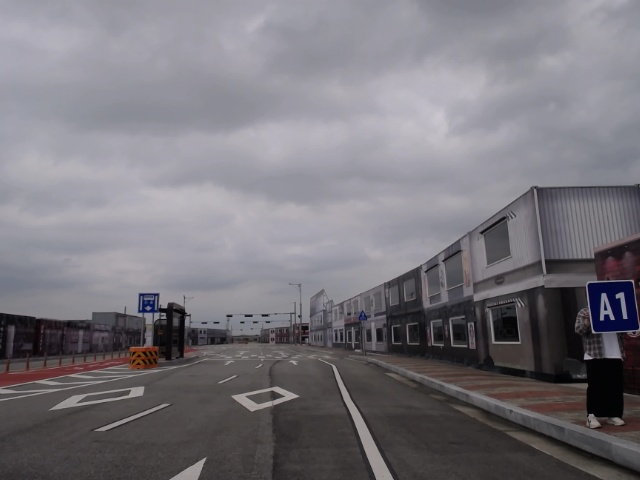delivery_a1: (586, 280, 639, 333)
